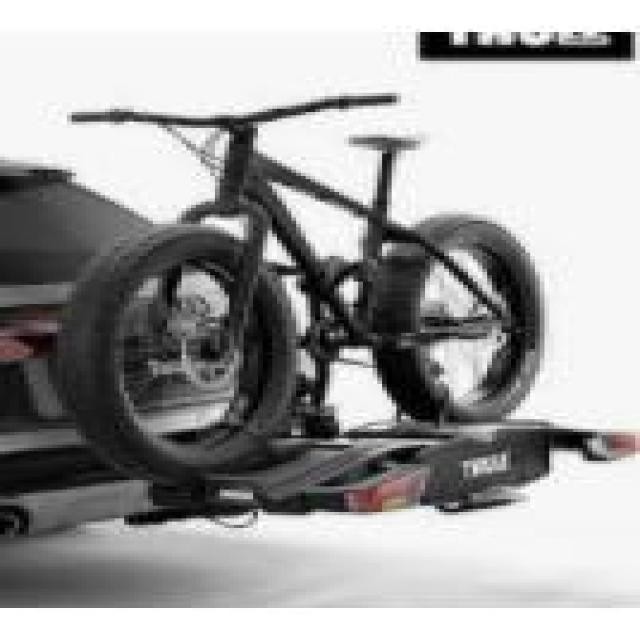bicycle: (39, 78, 560, 485)
